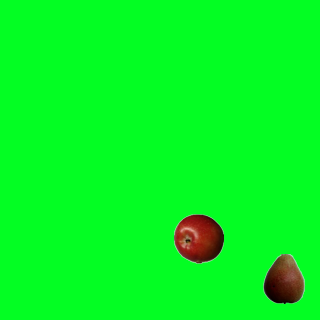Apple Braeburn: (173, 213, 223, 263)
Pear Forelle: (258, 253, 308, 303)
